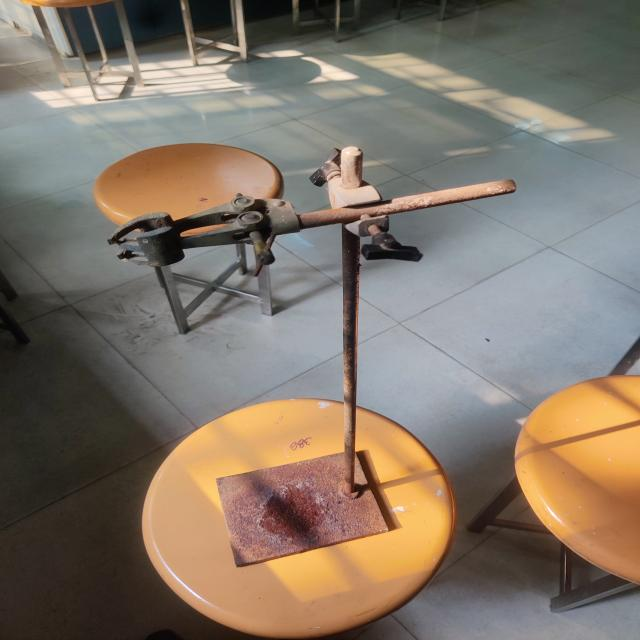Burette_Stands: (92, 139, 512, 568)
